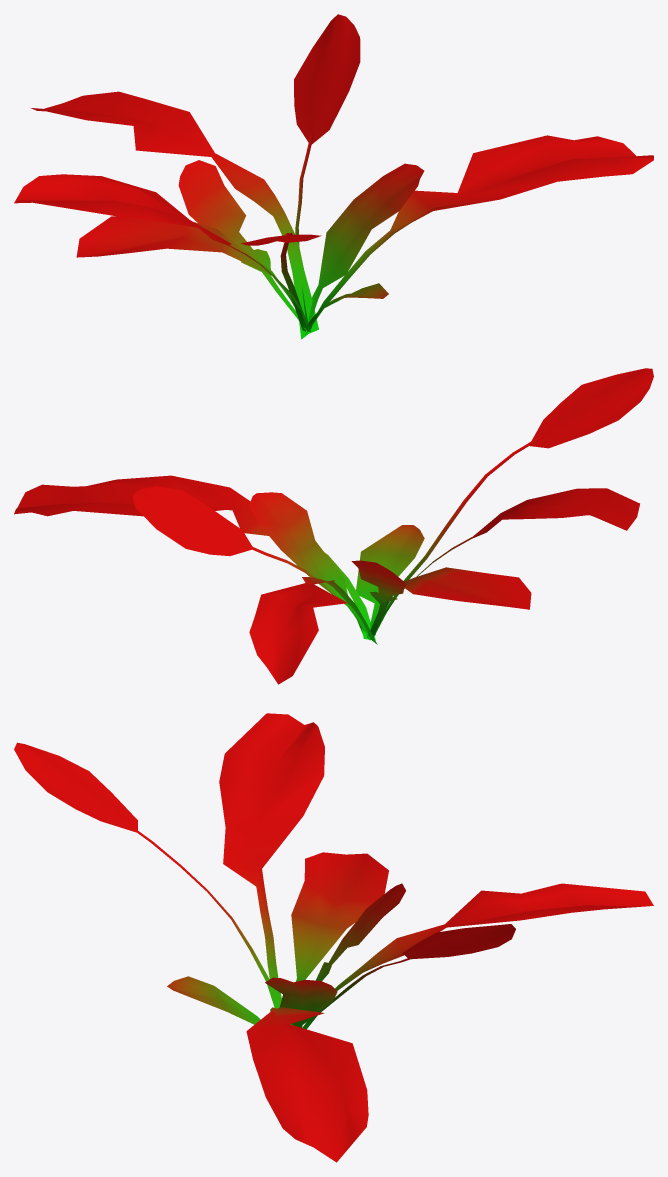
Rendered from Var19_LOD0.fbx.
3 views of the same model, one above another, from view 1: azimuth 30°, elevation 25°; view 2: azimuth 150°, elevation 25°; view 3: azimuth 270°, elevation 25° (orthographic). The views are drawn at different scales.
Visible parts, largest first — view 1: _ss47_Var19_LOD0; view 2: _ss47_Var19_LOD0; view 3: _ss47_Var19_LOD0.
Boxes of the visible parts, left/top/right/bottom form: _ss47_Var19_LOD0: left=14, top=14, right=653, bottom=339; _ss47_Var19_LOD0: left=14, top=368, right=653, bottom=684; _ss47_Var19_LOD0: left=14, top=713, right=653, bottom=1162.
Size of the model in its own units: 29.93 by 10.48 by 25.89.
